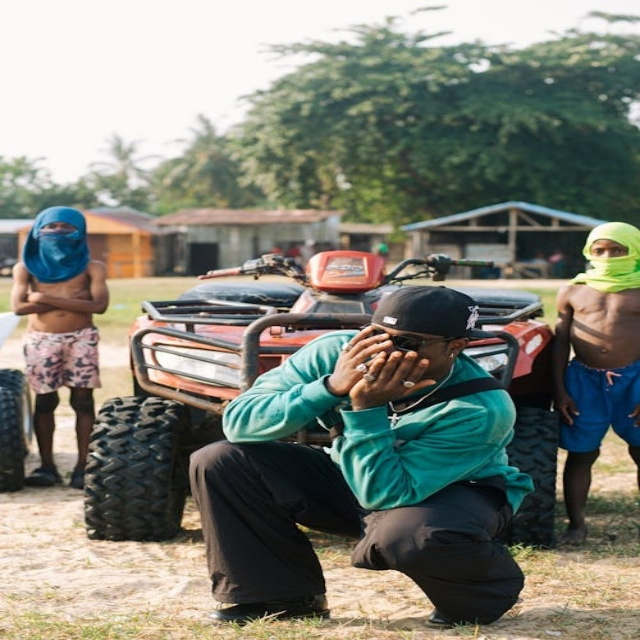Mascara: (37, 229, 84, 269)
Sin_gafas: (365, 327, 463, 354), (588, 247, 628, 258), (40, 223, 79, 231)
Sin_guantes: (347, 354, 451, 407), (321, 326, 394, 393)
